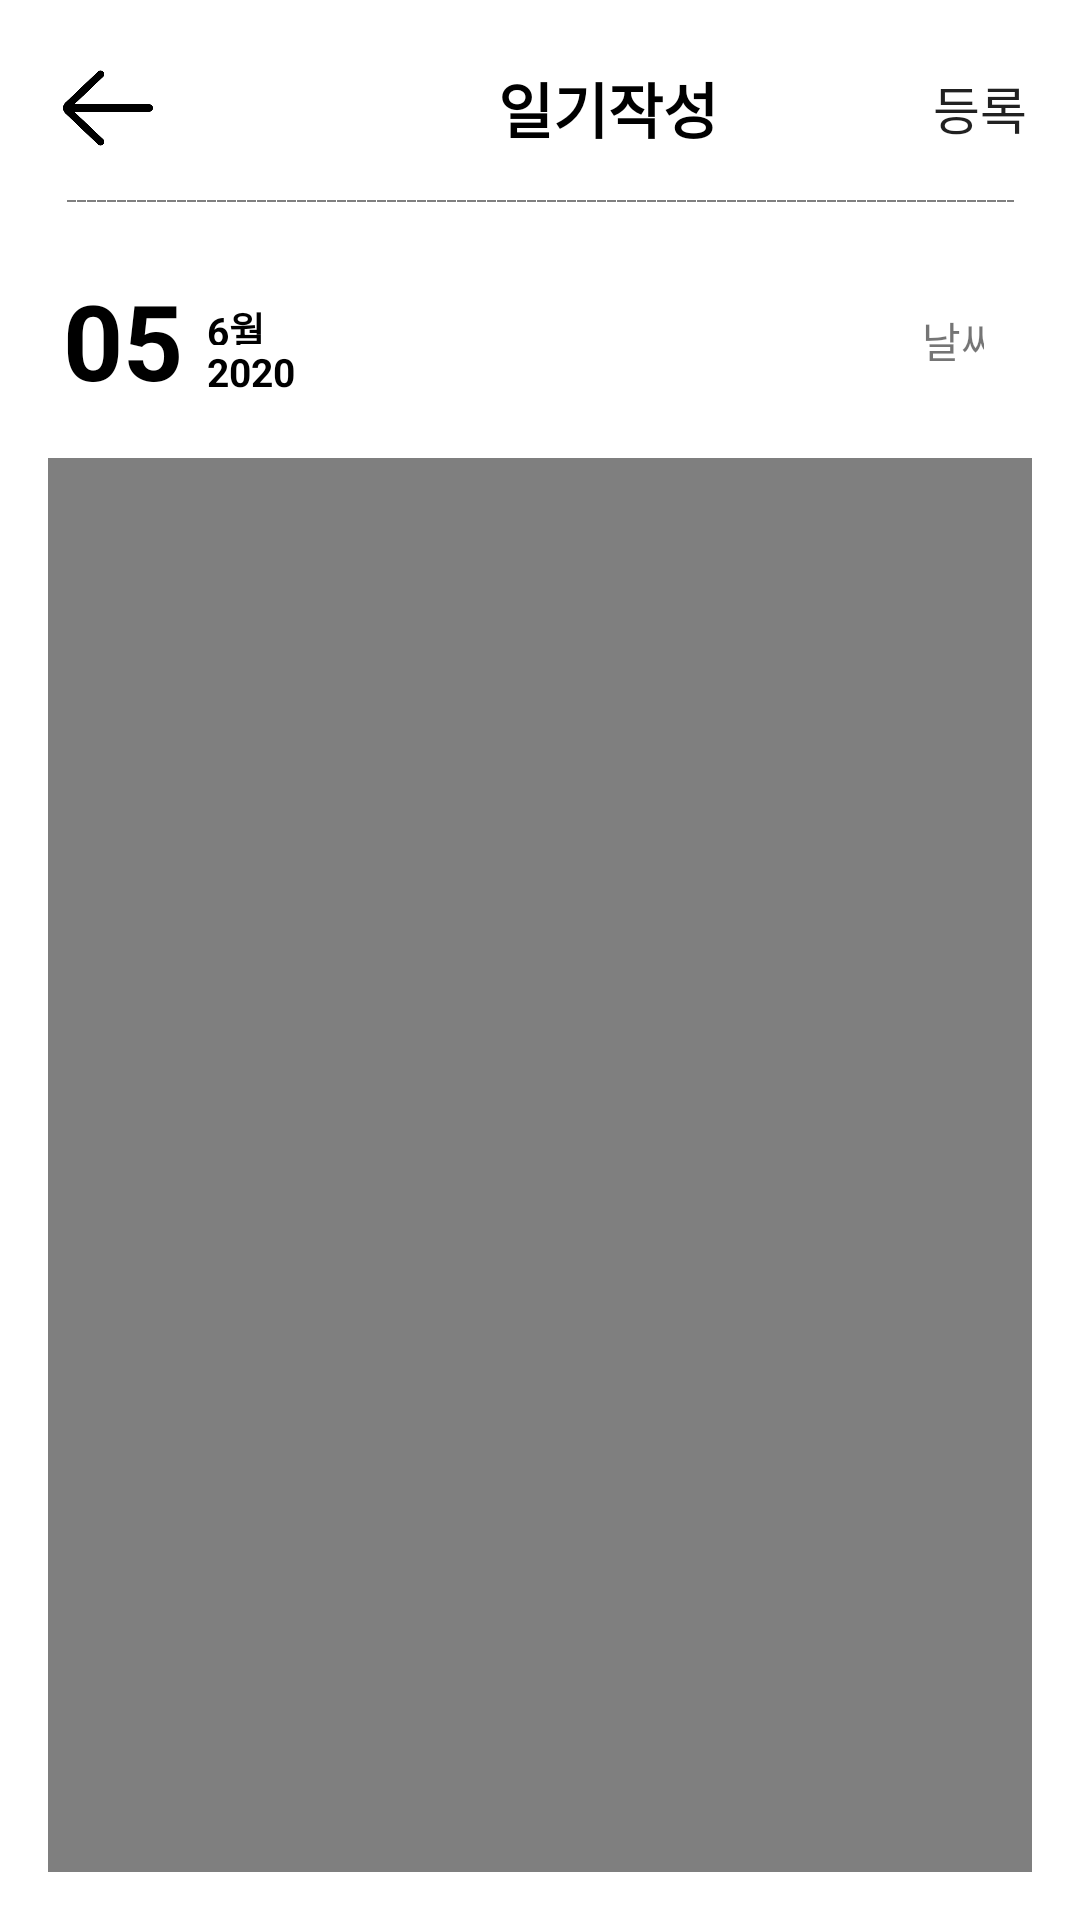

Point at icon controls on the screen. Image size 1080*1920, points as point (x, y).
arrow: point (108, 108)
